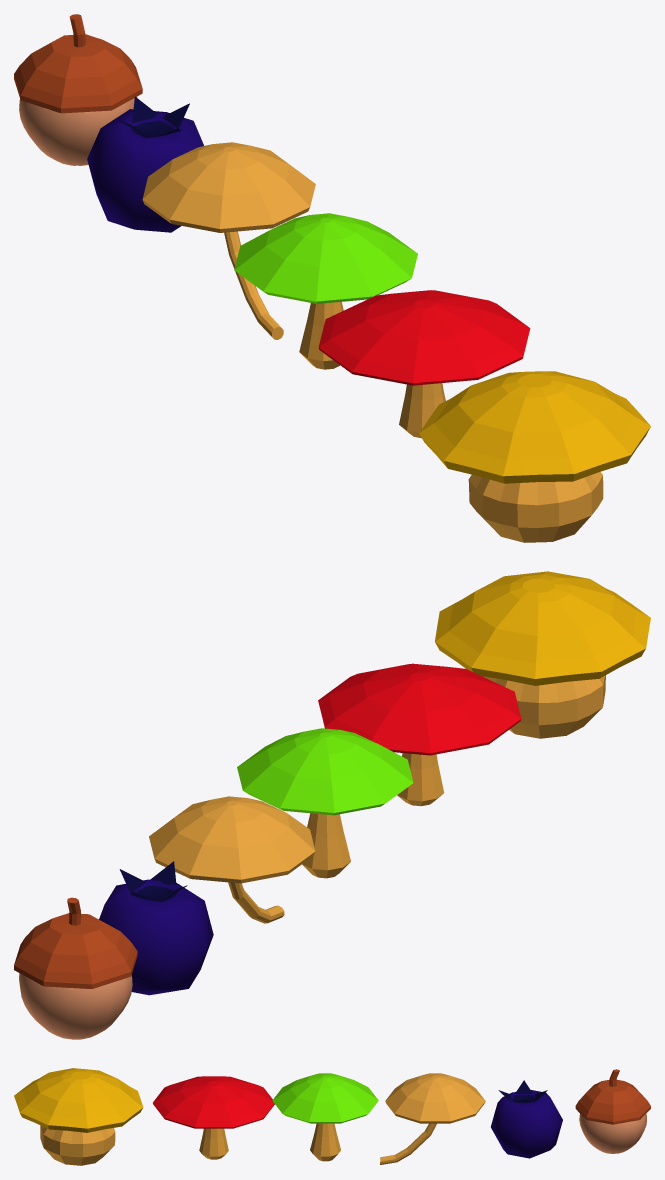
The model's file is AutumnForestGoods.fbx.
3 renders of one model, top to bottom at view 1: azimuth 30°, elevation 25°; view 2: azimuth 150°, elevation 25°; view 3: azimuth 270°, elevation 25°, orthographic. The views are drawn at different scales.
Visible parts, largest first — view 1: Cylinder.004, Cylinder.021, Cylinder.022, Cylinder.023, Cylinder.003, Cube.043; view 2: Cylinder.004, Cylinder.021, Cylinder.022, Cylinder.003, Cylinder.023, Cube.043; view 3: Cylinder.004, Cylinder.021, Cylinder.022, Cylinder.023, Cylinder.003, Cube.043.
Part boxes in pixels (bbox=[...]): Cylinder.004: bbox=[419, 371, 650, 542]; Cylinder.021: bbox=[318, 290, 530, 438]; Cylinder.022: bbox=[234, 213, 417, 369]; Cylinder.023: bbox=[142, 142, 315, 339]; Cylinder.003: bbox=[14, 14, 142, 165]; Cube.043: bbox=[87, 96, 203, 232]; Cylinder.004: bbox=[435, 571, 650, 738]; Cylinder.021: bbox=[318, 663, 521, 806]; Cylinder.022: bbox=[237, 728, 413, 878]; Cylinder.003: bbox=[14, 897, 137, 1039]; Cylinder.023: bbox=[149, 796, 315, 923]; Cube.043: bbox=[99, 861, 213, 995]; Cylinder.004: bbox=[14, 1068, 143, 1165]; Cylinder.021: bbox=[153, 1076, 274, 1159]; Cylinder.022: bbox=[272, 1073, 378, 1161]; Cylinder.023: bbox=[380, 1073, 485, 1164]; Cylinder.003: bbox=[575, 1069, 650, 1153]; Cube.043: bbox=[491, 1080, 562, 1158].
Size of the model in its own units: 197 by 160 by 964.
